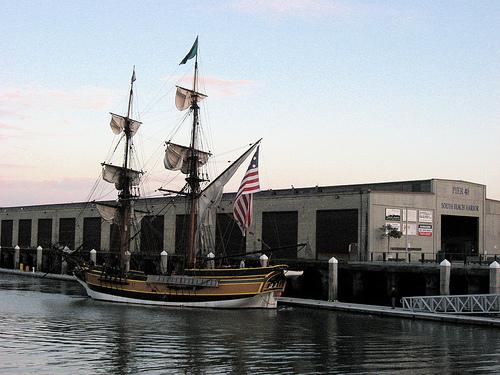Ship: (73, 37, 289, 312)
